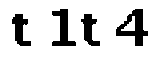1: (46, 5, 78, 52)
4: (115, 6, 153, 48)
t: (8, 13, 37, 50), (79, 9, 104, 47)
